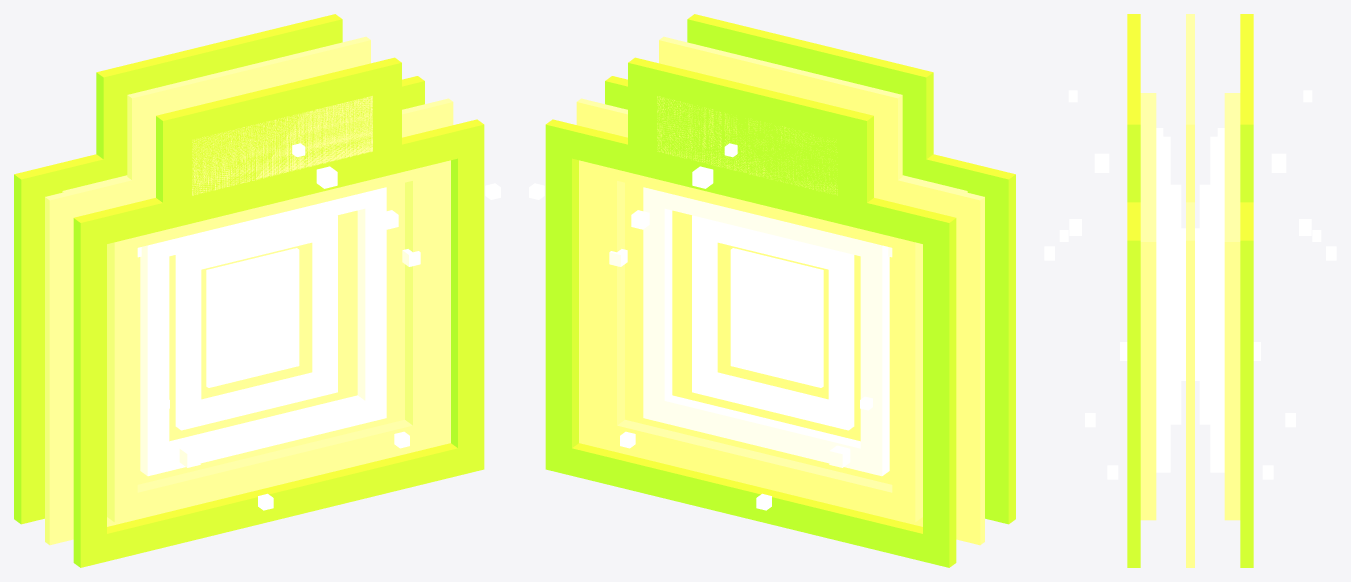
The model's file is tt-portal-lime.glb.
3 renders of one model, left to right at view 1: azimuth 30°, elevation 25°; view 2: azimuth 150°, elevation 25°; view 3: azimuth 270°, elevation 25°, orthographic. The views are drawn at different scales.
Parts seen in each view (by area): view 1: box-prop; view 2: box-prop; view 3: box-prop.
Part boxes in pixels (x1=…): box-prop: x1=14, y1=14, x2=500, y2=567; box-prop: x1=529, y1=14, x2=1015, y2=567; box-prop: x1=1044, y1=14, x2=1336, y2=567.
Size of the model in its own units: 4.9 by 4.95 by 3.24.
